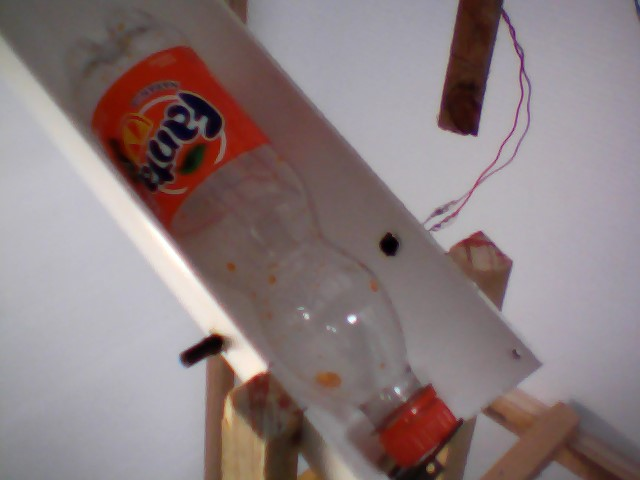plastico: (38, 6, 470, 471)
